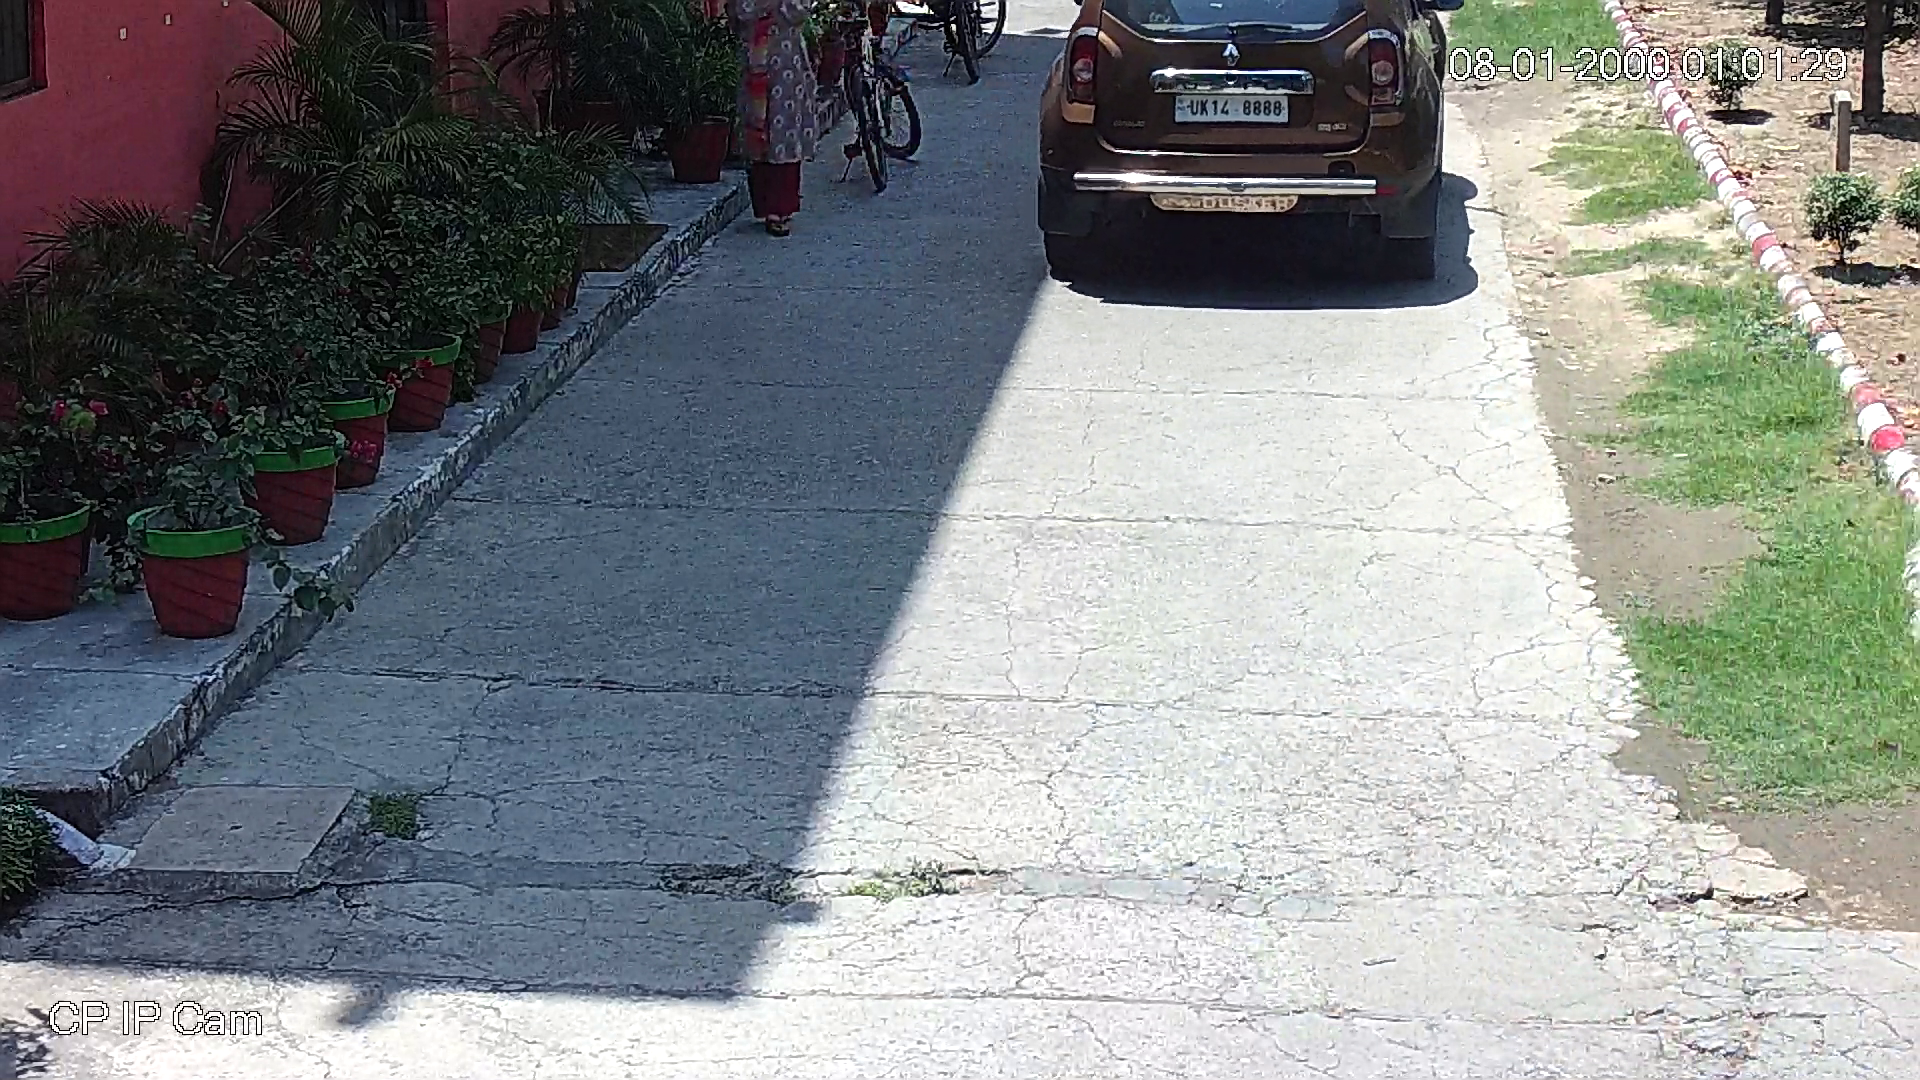plate: (1170, 90, 1294, 123)
